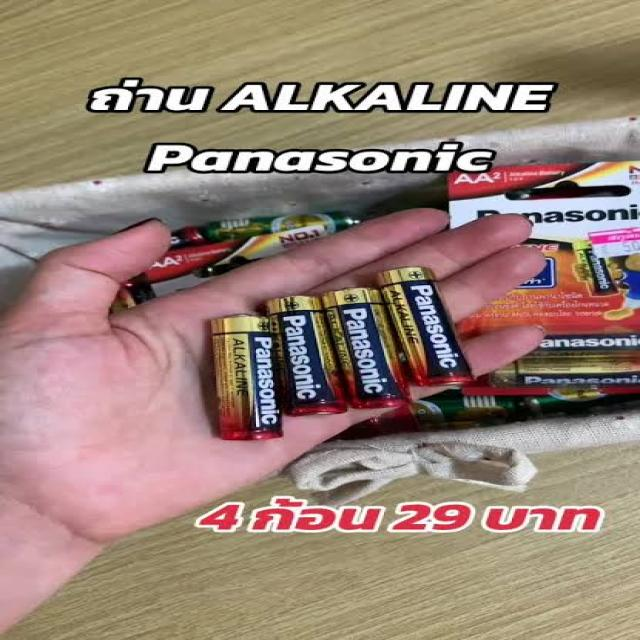battery: (208, 316, 288, 445)
